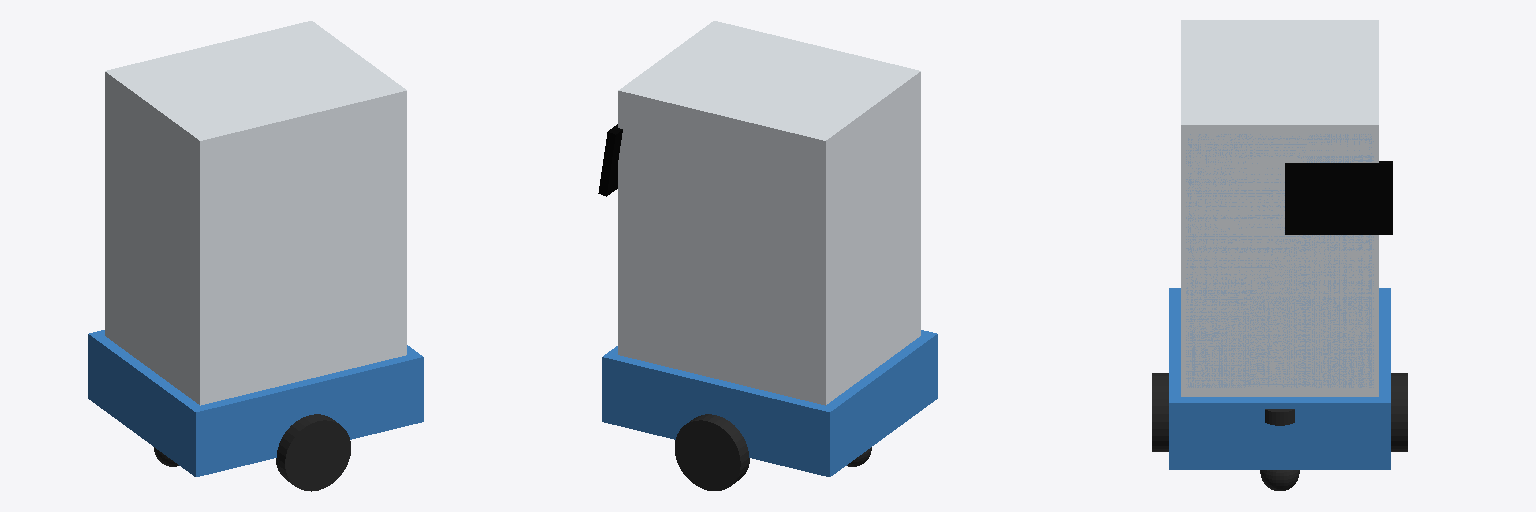
URDF robot description (med_delivery_robot):
<?xml version="1.0"?>
<robot name="med_delivery_robot" xmlns:xacro="http://www.ros.org/wiki/xacro">

  <!-- ==================== COLOR MATERIALS ==================== -->
  <material name="chassis_white">
    <color rgba="0.92 0.94 0.96 1.0"/>
  </material>
  <material name="hospital_blue">
    <color rgba="0.30 0.58 0.85 1.0"/>
  </material>
  <material name="dark_grey">
    <color rgba="0.2 0.2 0.2 1.0"/>
  </material>
  <material name="glass_translucent">
    <color rgba="0.8 0.9 1.0 0.4"/>
  </material>
  <material name="screen_black">
    <color rgba="0.05 0.05 0.05 1.0"/>
  </material>

  <!-- ==================== BASE FOOTPRINT ==================== -->
  <link name="base_footprint"/>

  <joint name="base_footprint_joint" type="fixed">
    <parent link="base_footprint"/>
    <child link="base_link"/>
    <origin xyz="0 0 0.08" rpy="0 0 0"/>
  </joint>

  <!-- ==================== BASE CHASSIS ==================== -->
  <link name="base_link">
    <visual>
      <origin xyz="0 0 0.075" rpy="0 0 0"/>
      <geometry>
        <box size="0.55 0.45 0.15"/>
      </geometry>
      <material name="hospital_blue"/>
    </visual>
    <collision>
      <origin xyz="0 0 0.075" rpy="0 0 0"/>
      <geometry>
        <box size="0.55 0.45 0.15"/>
      </geometry>
    </collision>
    <inertial>
      <mass value="12.0"/>
      <origin xyz="0 0 0.075" rpy="0 0 0"/>
      <inertia ixx="0.225" ixy="0.0" ixz="0.0" iyy="0.325" iyz="0.0" izz="0.505"/>
    </inertial>
  </link>

  <!-- ==================== CABINET BODY ==================== -->
  <joint name="cabinet_joint" type="fixed">
    <parent link="base_link"/>
    <child link="cabinet_link"/>
    <origin xyz="0 0 0.15" rpy="0 0 0"/>
  </joint>

  <link name="cabinet_link">
    <visual>
      <origin xyz="0 0 0.305" rpy="0 0 0"/>
      <geometry>
        <box size="0.50 0.40 0.61"/>
      </geometry>
      <material name="chassis_white"/>
    </visual>
    <visual>
      <origin xyz="0.01 0 0.305" rpy="0 0 0"/>
      <geometry>
        <box size="0.48 0.38 0.57"/>
      </geometry>
      <material name="glass_translucent"/>
    </visual>
    <collision>
      <origin xyz="0 0 0.305" rpy="0 0 0"/>
      <geometry>
        <box size="0.50 0.40 0.61"/>
      </geometry>
    </collision>
    <inertial>
      <mass value="15.0"/>
      <origin xyz="0 0 0.305" rpy="0 0 0"/>
      <inertia ixx="0.665" ixy="0.0" ixz="0.0" iyy="0.778" iyz="0.0" izz="0.512"/>
    </inertial>
  </link>

  <!-- Screen / User Interface Display -->
  <joint name="screen_joint" type="fixed">
    <parent link="cabinet_link"/>
    <child link="screen_link"/>
    <origin xyz="0.26 0.12 0.45" rpy="0 -0.15 0"/>
  </joint>

  <link name="screen_link">
    <visual>
      <geometry>
        <box size="0.02 0.22 0.15"/>
      </geometry>
      <material name="screen_black"/>
    </visual>
  </link>

  <!-- ==================== DRIVE WHEELS ==================== -->
  <joint name="left_wheel_joint" type="continuous">
    <parent link="base_link"/>
    <child link="left_wheel_link"/>
    <origin xyz="0 0.24 0" rpy="-1.5708 0 0"/>
    <axis xyz="0 0 1"/>
  </joint>

  <link name="left_wheel_link">
    <visual>
      <geometry>
        <cylinder radius="0.08" length="0.04"/>
      </geometry>
      <material name="dark_grey"/>
    </visual>
    <collision>
      <geometry>
        <cylinder radius="0.08" length="0.04"/>
      </geometry>
    </collision>
    <inertial>
      <mass value="1.5"/>
      <inertia ixx="0.0026" ixy="0.0" ixz="0.0" iyy="0.0026" iyz="0.0" izz="0.0048"/>
    </inertial>
  </link>

  <joint name="right_wheel_joint" type="continuous">
    <parent link="base_link"/>
    <child link="right_wheel_link"/>
    <origin xyz="0 -0.24 0" rpy="-1.5708 0 0"/>
    <axis xyz="0 0 1"/>
  </joint>

  <link name="right_wheel_link">
    <visual>
      <geometry>
        <cylinder radius="0.08" length="0.04"/>
      </geometry>
      <material name="dark_grey"/>
    </visual>
    <collision>
      <geometry>
        <cylinder radius="0.08" length="0.04"/>
      </geometry>
    </collision>
    <inertial>
      <mass value="1.5"/>
      <inertia ixx="0.0026" ixy="0.0" ixz="0.0" iyy="0.0026" iyz="0.0" izz="0.0048"/>
    </inertial>
  </link>

  <!-- ==================== CASTER WHEELS ==================== -->
  <joint name="front_caster_joint" type="fixed">
    <parent link="base_link"/>
    <child link="front_caster_link"/>
    <origin xyz="0.20 0 -0.04" rpy="0 0 0"/>
  </joint>

  <link name="front_caster_link">
    <visual>
      <geometry>
        <sphere radius="0.04"/>
      </geometry>
      <material name="dark_grey"/>
    </visual>
    <collision>
      <geometry>
        <sphere radius="0.04"/>
      </geometry>
    </collision>
    <inertial>
      <mass value="0.5"/>
      <inertia ixx="0.00032" ixy="0.0" ixz="0.0" iyy="0.00032" iyz="0.0" izz="0.00032"/>
    </inertial>
  </link>

  <joint name="rear_caster_joint" type="fixed">
    <parent link="base_link"/>
    <child link="rear_caster_link"/>
    <origin xyz="-0.20 0 -0.04" rpy="0 0 0"/>
  </joint>

  <link name="rear_caster_link">
    <visual>
      <geometry>
        <sphere radius="0.04"/>
      </geometry>
      <material name="dark_grey"/>
    </visual>
    <collision>
      <geometry>
        <sphere radius="0.04"/>
      </geometry>
    </collision>
    <inertial>
      <mass value="0.5"/>
      <inertia ixx="0.00032" ixy="0.0" ixz="0.0" iyy="0.00032" iyz="0.0" izz="0.00032"/>
    </inertial>
  </link>

  <!-- ==================== SENSORS ==================== -->
  <joint name="lidar_joint" type="fixed">
    <parent link="base_link"/>
    <child link="lidar_link"/>
    <origin xyz="0.25 0 0.12" rpy="0 0 0"/>
  </joint>

  <link name="lidar_link">
    <visual>
      <geometry>
        <cylinder radius="0.04" length="0.03"/>
      </geometry>
      <material name="dark_grey"/>
    </visual>
    <collision>
      <geometry>
        <cylinder radius="0.04" length="0.03"/>
      </geometry>
    </collision>
    <inertial>
      <mass value="0.2"/>
      <inertia ixx="0.000095" ixy="0.0" ixz="0.0" iyy="0.000095" iyz="0.0" izz="0.00016"/>
    </inertial>
  </link>

  <joint name="camera_joint" type="fixed">
    <parent link="base_link"/>
    <child link="camera_link"/>
    <origin xyz="0.2 0 0.1" rpy="0 0 0"/>
  </joint>

  <link name="camera_link">
    <visual>
      <geometry>
        <box size="0.05 0.05 0.05"/>
      </geometry>
      <material name="screen_black"/>
    </visual>
    <collision>
      <geometry>
        <box size="0.05 0.05 0.05"/>
      </geometry>
    </collision>
    <inertial>
      <mass value="0.1"/>
      <inertia ixx="0.0001" ixy="0.0" ixz="0.0" iyy="0.0001" iyz="0.0" izz="0.0001"/>
    </inertial>
  </link>

  <!-- ==================== GAZEBO SIM PLUGINS ==================== -->
  <gazebo>
    <plugin filename="gz-sim-diff-drive-system" name="gz::sim::systems::DiffDrive">
      <left_joint>left_wheel_joint</left_joint>
      <right_joint>right_wheel_joint</right_joint>
      <wheel_separation>0.48</wheel_separation>
      <wheel_radius>0.08</wheel_radius>
      <odom_publish_frequency>50</odom_publish_frequency>
      <topic>/cmd_vel</topic>
      <odom_topic>/odom</odom_topic>
      <tf_topic>/tf</tf_topic>
      <frame_id>odom</frame_id>
      <child_frame_id>base_footprint</child_frame_id>
    </plugin>
  </gazebo>

  <gazebo>
    <plugin filename="gz-sim-sensors-system" name="gz::sim::systems::Sensors">
      <render_engine>ogre2</render_engine>
    </plugin>
  </gazebo>

  <gazebo reference="lidar_link">
    <sensor name="gpu_lidar" type="gpu_lidar">
      <update_rate>10</update_rate>
      <topic>/scan</topic>
      <gz_frame_id>lidar_link</gz_frame_id>
      <ray>
        <scan>
          <horizontal>
            <samples>360</samples>
            <resolution>1</resolution>
            <min_angle>-3.14159</min_angle>
            <max_angle>3.14159</max_angle>
          </horizontal>
        </scan>
        <range>
          <min>0.15</min>
          <max>12.0</max>
        </range>
      </ray>
      <always_on>true</always_on>
      <visualize>true</visualize>
    </sensor>
  </gazebo>

  <gazebo reference="camera_link">
    <sensor name="camera" type="camera">
      <camera>
        <horizontal_fov>1.047</horizontal_fov>
        <image>
          <width>640</width>
          <height>480</height>
        </image>
        <clip>
          <near>0.1</near>
          <far>100</far>
        </clip>
      </camera>
      <always_on>1</always_on>
      <update_rate>30</update_rate>
      <visualize>true</visualize>
      <topic>/camera/image_raw</topic>
    </sensor>
  </gazebo>

  <!-- Friction Properties -->
  <gazebo reference="left_wheel_link">
    <mu1>1.0</mu1>
    <mu2>1.0</mu2>
  </gazebo>
  <gazebo reference="right_wheel_link">
    <mu1>1.0</mu1>
    <mu2>1.0</mu2>
  </gazebo>
  <gazebo reference="front_caster_link">
    <mu1>0.001</mu1>
    <mu2>0.001</mu2>
  </gazebo>
  <gazebo reference="rear_caster_link">
    <mu1>0.001</mu1>
    <mu2>0.001</mu2>
  </gazebo>

</robot>

--- Render facts (derived) ---
The picture shows the robot from 3 angles, left to right: view 1: azimuth 30°, elevation 25°; view 2: azimuth 150°, elevation 25°; view 3: azimuth 270°, elevation 25°; orthographic projection.
Model med_delivery_robot with 10 links and 9 joints (2 continuous, 7 fixed), rooted at base_footprint, posed every joint at zero.
Visible links, largest first — view 1: cabinet_link, base_link, right_wheel_link; view 2: cabinet_link, base_link, left_wheel_link, screen_link; view 3: cabinet_link, base_link, screen_link, left_wheel_link, right_wheel_link, front_caster_link.
Boxes of the visible links, box(x1,y1,x2,y2) form: cabinet_link: box(105, 21, 406, 405); base_link: box(88, 330, 423, 476); right_wheel_link: box(276, 414, 350, 491); cabinet_link: box(618, 21, 920, 405); base_link: box(602, 330, 937, 476); left_wheel_link: box(675, 414, 749, 490); screen_link: box(598, 124, 622, 196); cabinet_link: box(1181, 20, 1378, 396); base_link: box(1169, 288, 1390, 469); screen_link: box(1285, 161, 1392, 234); left_wheel_link: box(1391, 373, 1407, 451); right_wheel_link: box(1152, 373, 1168, 451); front_caster_link: box(1260, 470, 1299, 490).
Size in the robot's own frame: 0.565 by 0.52 by 0.84 metres.
Geometry: primitives only (box / cylinder / sphere), no mesh files.
